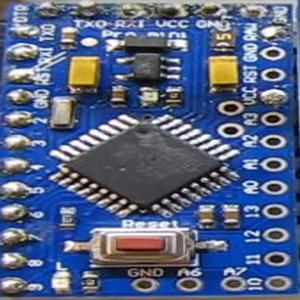duino: (1, 2, 300, 300)
